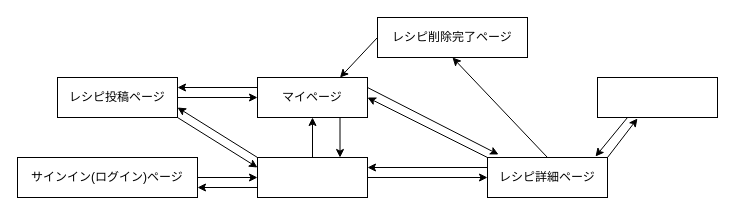
Image size: 735x215. Some labels were removed from this diagram. Each missing label, with the box of its shape:
TOPページ (レシピ一覧): (256, 156, 368, 198)
レシピ編集ページ: (596, 76, 718, 118)
